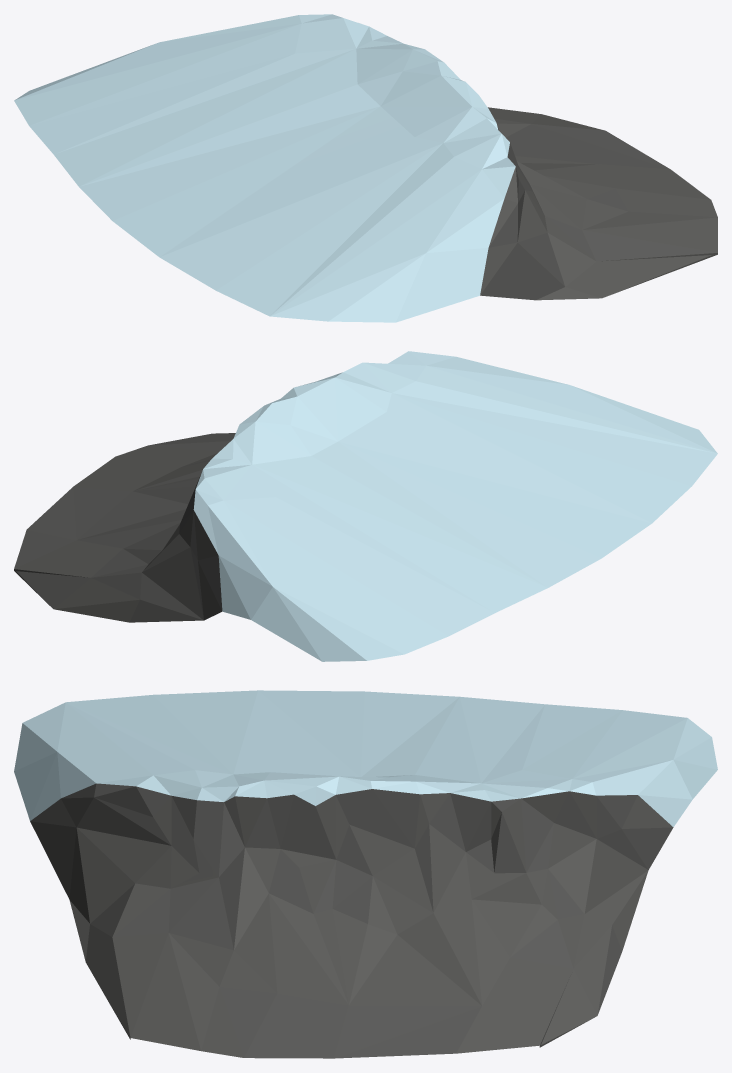
Rendered from worlds_SM_Env_Crater_Edge_03.gltf.
3 renders of one model, top to bottom at view 1: azimuth 30°, elevation 25°; view 2: azimuth 150°, elevation 25°; view 3: azimuth 270°, elevation 25°, orthographic. The views are drawn at different scales.
Visible parts, largest first — view 1: SM_Env_Crater_Edge_03; view 2: SM_Env_Crater_Edge_03; view 3: SM_Env_Crater_Edge_03.
Boxes of the visible parts, <box> form: SM_Env_Crater_Edge_03: <box>14,14,717,322</box>; SM_Env_Crater_Edge_03: <box>14,351,717,661</box>; SM_Env_Crater_Edge_03: <box>14,690,717,1058</box>.
Size of the model in its own units: 59.03 by 16.42 by 60.39.
Materials: 1 (1 with a texture image).
